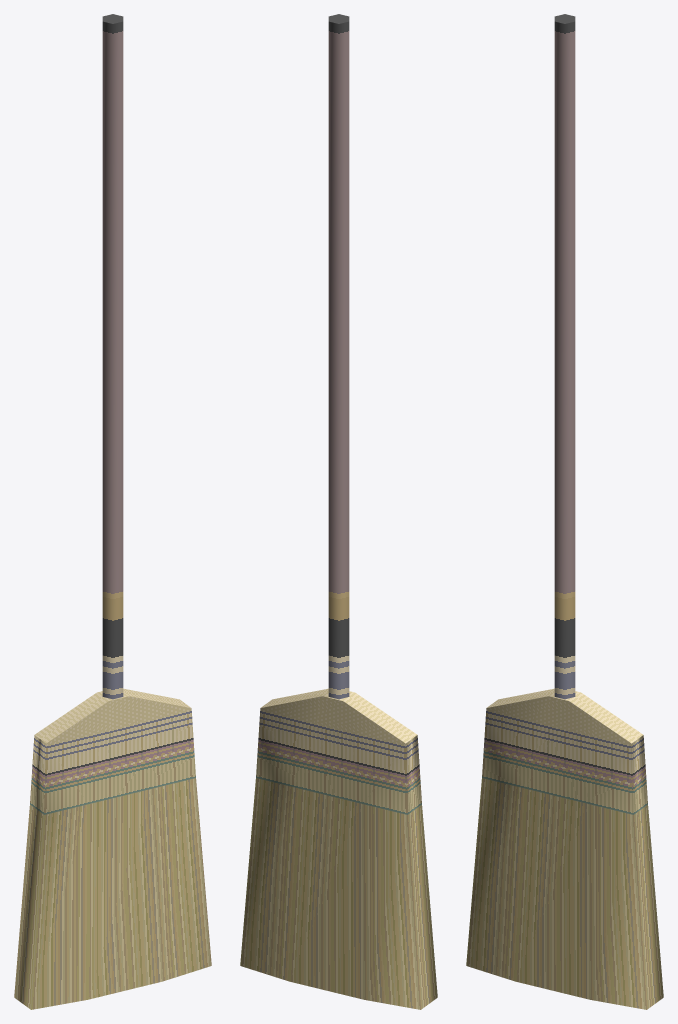
Rendered from 0427_Broom.glb.
3 renders of one model, left to right at view 1: azimuth 30°, elevation 25°; view 2: azimuth 150°, elevation 25°; view 3: azimuth 330°, elevation 25°, orthographic.
Visible parts, largest first — view 1: part_0; view 2: part_0; view 3: part_0.
Boxes of the visible parts, bbox=[...] form: part_0: bbox=[14, 14, 211, 1009]; part_0: bbox=[240, 14, 437, 1009]; part_0: bbox=[466, 14, 663, 1009].
Size of the model in its own units: 0.2631 by 1.34 by 0.0619.
Materials: 1 (1 with a texture image).
